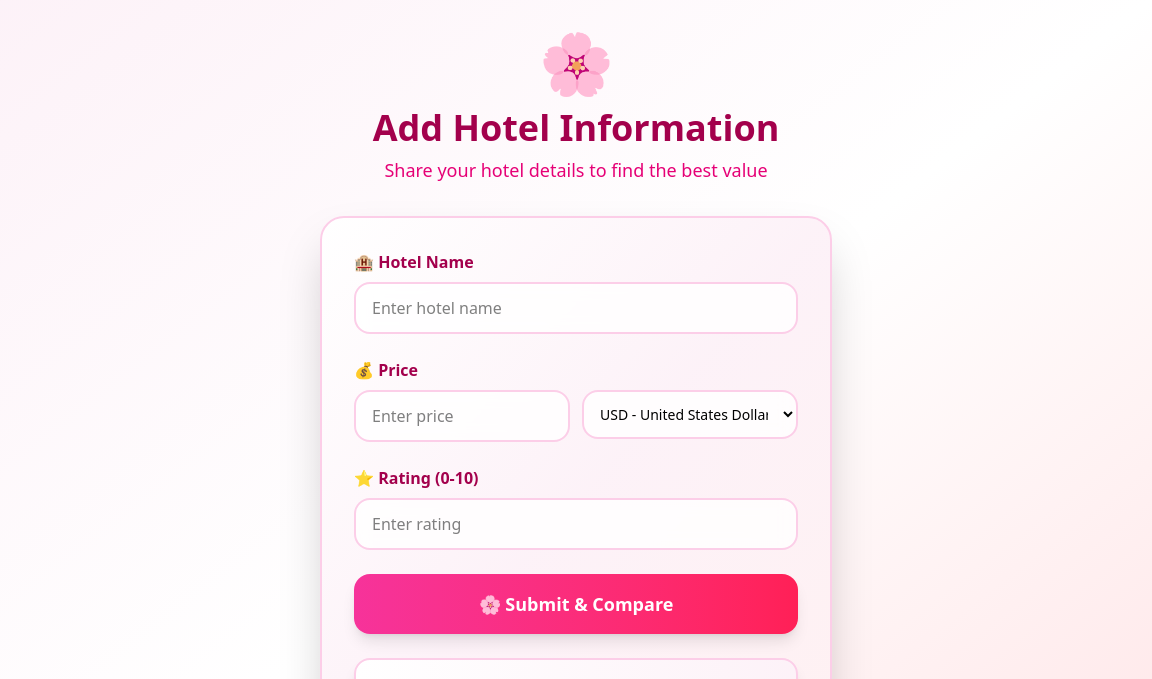
Test case: localStorage Error Handling › handles localStorage quota exceeded error
The image size is (1152, 679).
// Fill form with valid data
Type "Test Hotel" into the field labelled "🏨 Hotel Name" at (576, 308), box [354,282,798,334]
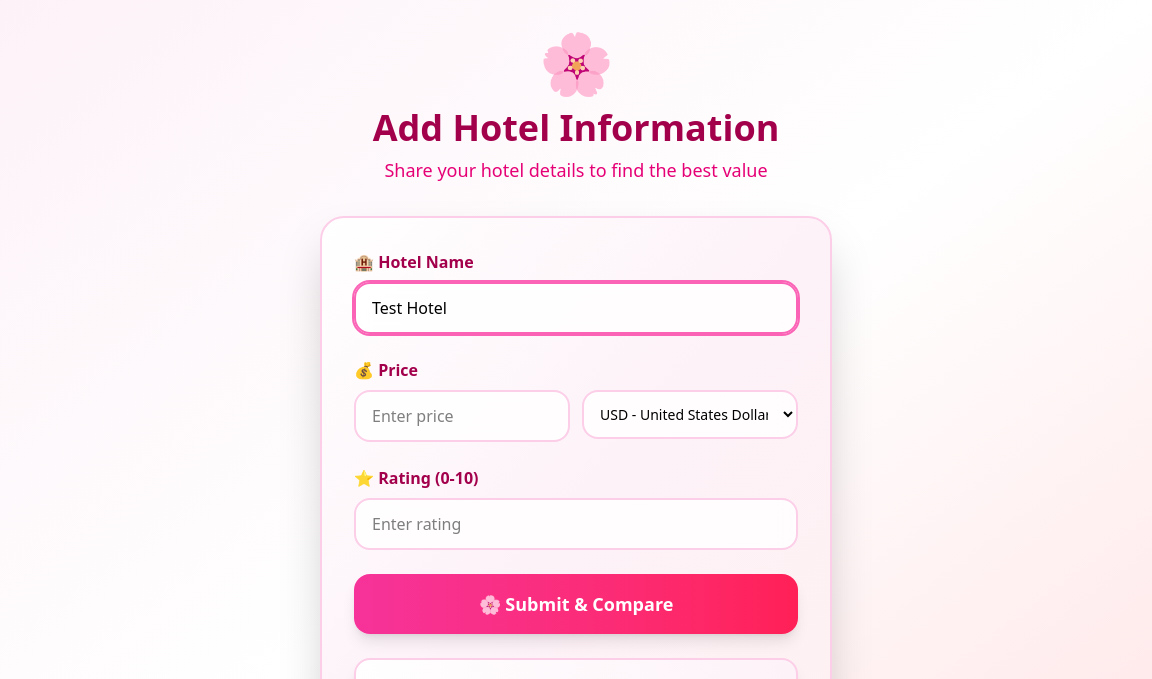
Type "100" into the number field labelled "💰 Price" at (462, 416), box [354,390,570,442]
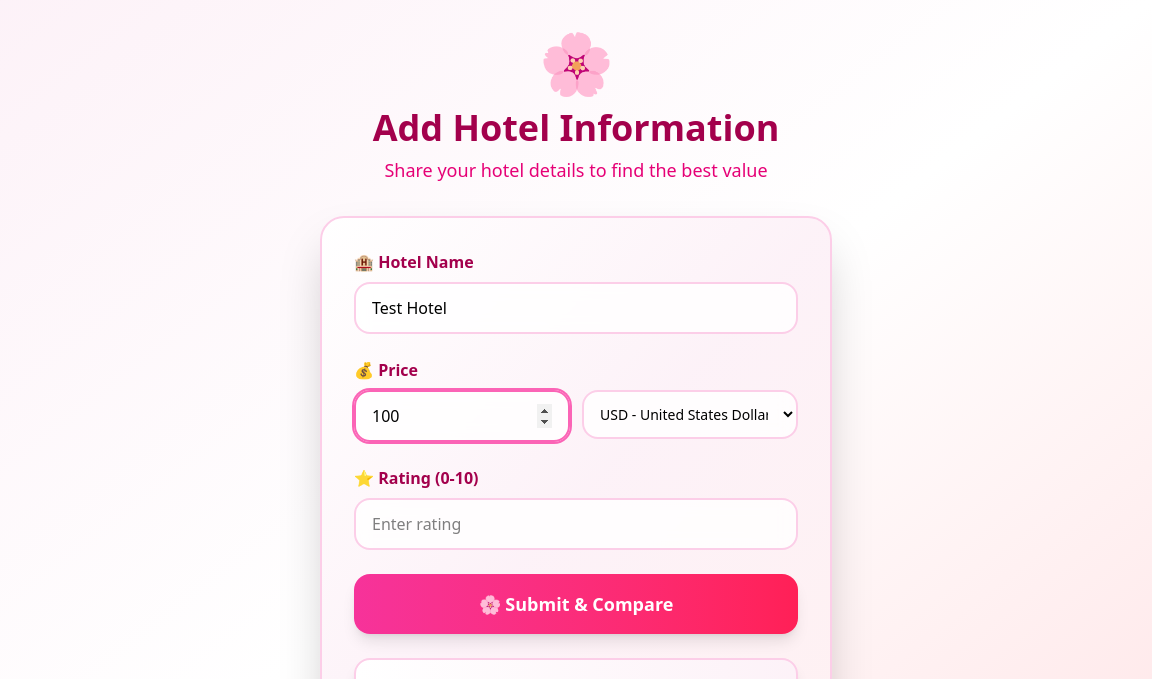
Type "8" into the number field labelled "⭐ Rating (0-10)" at (576, 524), box [354,498,798,550]
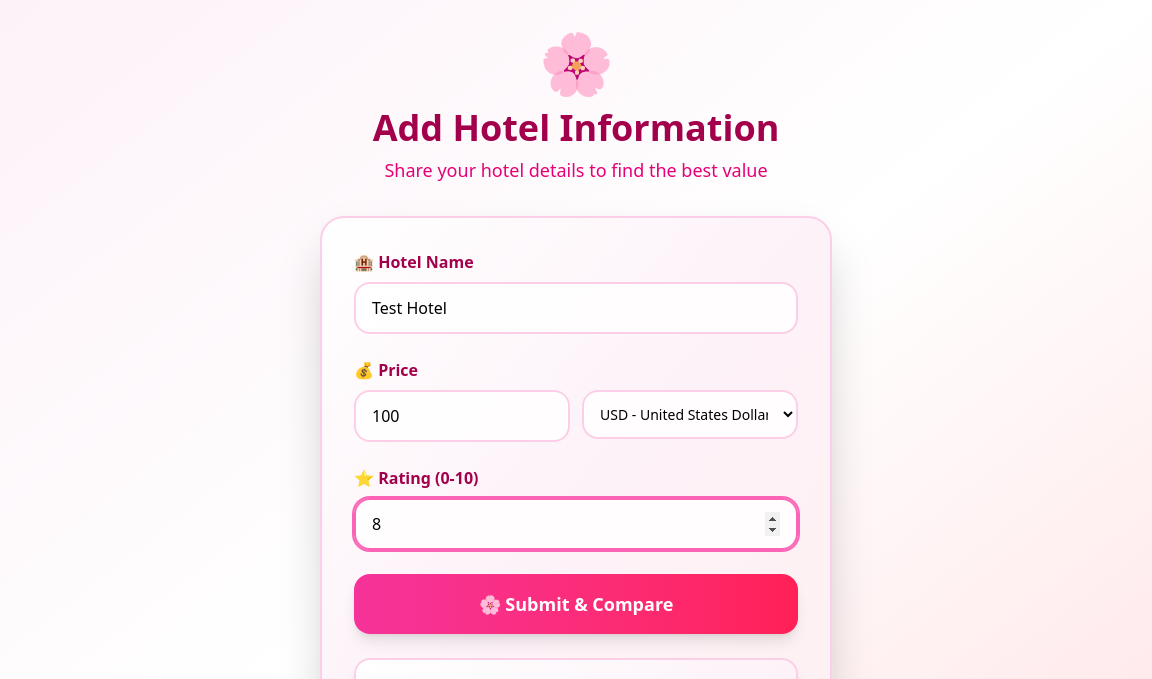
// Submit should handle error gracefully
Click the button "🌸 Submit & Compare" at (576, 604), box [354,574,798,634]
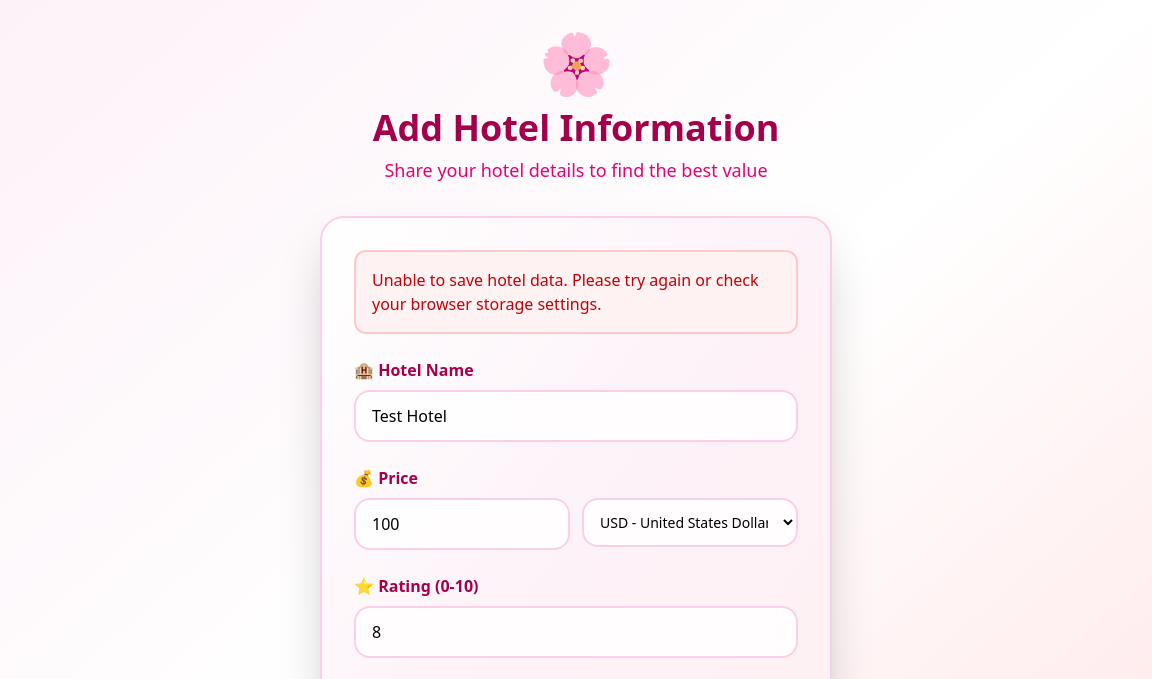
Result: the text "Unable to save hotel data" is shown at [372,269,758,315]
